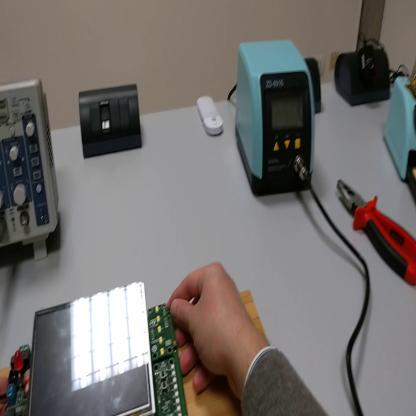hand: (166, 261, 255, 396)
low voltage board: (9, 286, 189, 412)
oscilloscope: (2, 83, 60, 261)
pliers: (338, 179, 416, 289)
socket: (335, 45, 392, 107), (306, 57, 323, 116)
welder base: (383, 77, 415, 208)
welder station: (237, 43, 313, 197)
working area: (1, 292, 269, 415)
